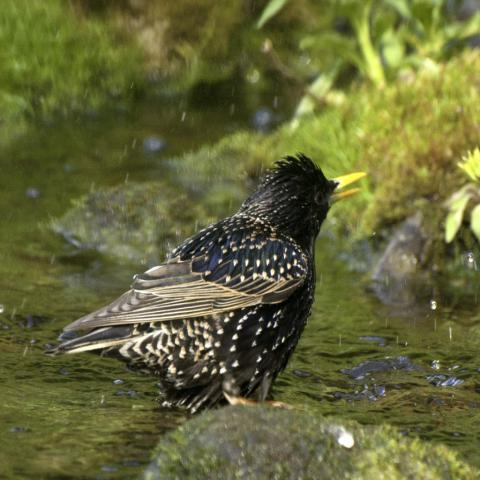bird: (43, 149, 368, 413)
